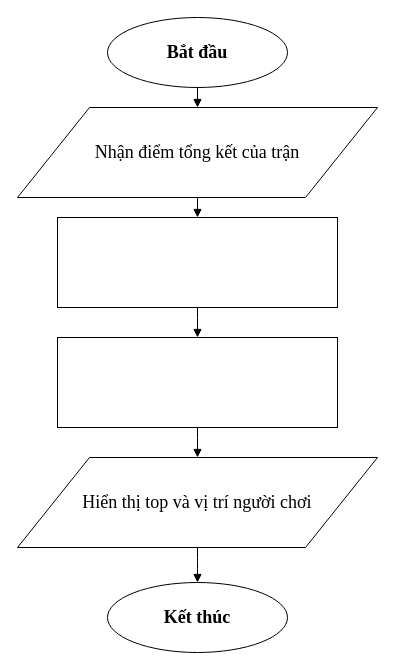
Some shapes in this 395 by 670 pixel diagram are drawn without their labels. Here are the shapes that lost their labels. From the top down, the box of each, then its label:
(56, 216, 338, 308): Gửi điểm lên PlayFab
(56, 336, 338, 428): Truy vấn bảng xếp hạng
